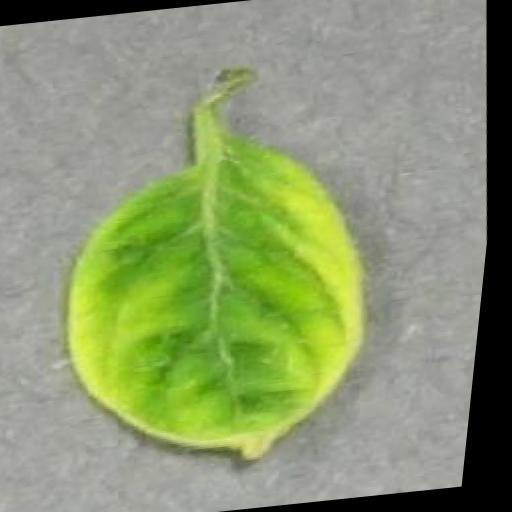Yellow Leaf Curl Virus: (45, 129, 400, 478)
